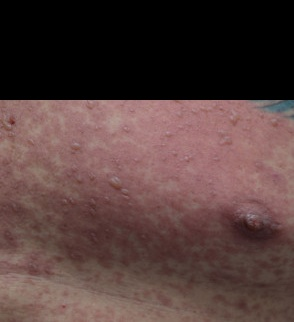SJS-TEN: (0, 98, 293, 321)
